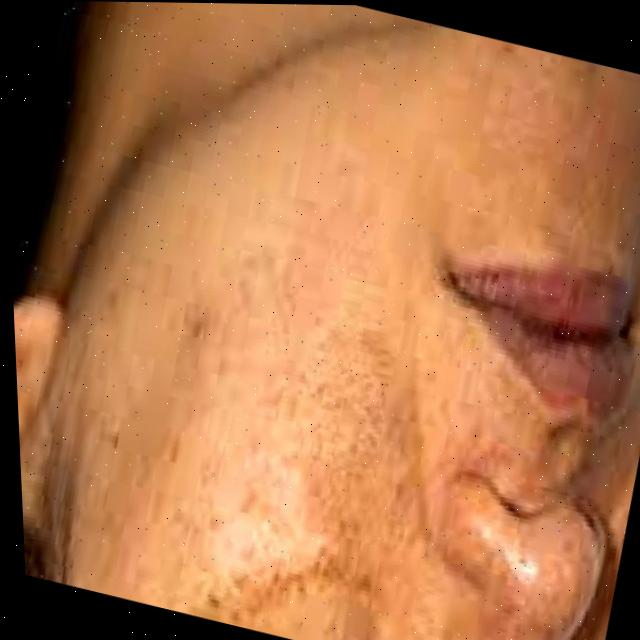Melasma: (205, 314, 445, 619)
